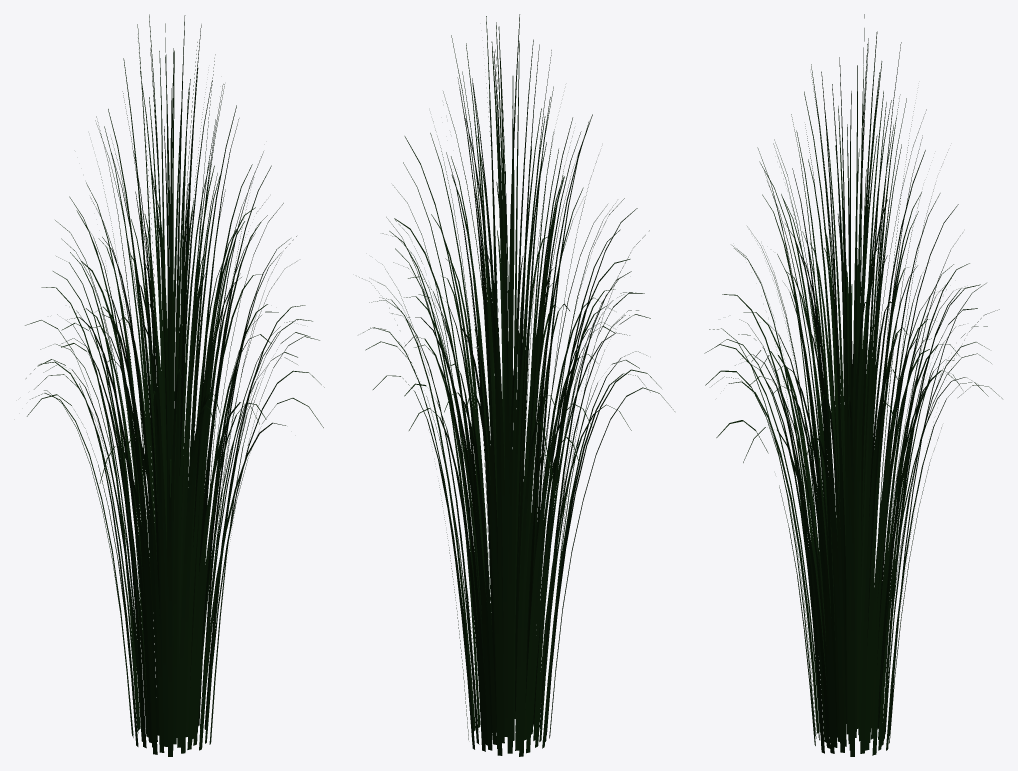
Rendered from Gras 3.FBX.
3 views of the same model, side by side, from view 1: azimuth 30°, elevation 25°; view 2: azimuth 150°, elevation 25°; view 3: azimuth 270°, elevation 25° (orthographic). The views are drawn at different scales.
Visible parts, largest first — view 1: Gras Beispiel; view 2: Gras Beispiel; view 3: Gras Beispiel.
Boxes of the visible parts, box(x1,y1,x2,y2) form: Gras Beispiel: box(25, 14, 324, 756); Gras Beispiel: box(359, 14, 674, 756); Gras Beispiel: box(704, 14, 1002, 756).
Size of the model in its own units: 44.05 by 113 by 42.8.
